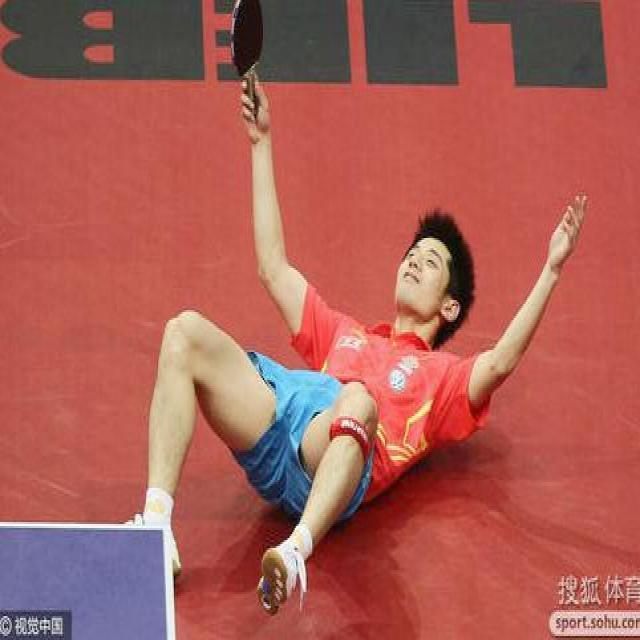fall: (140, 182, 586, 590)
